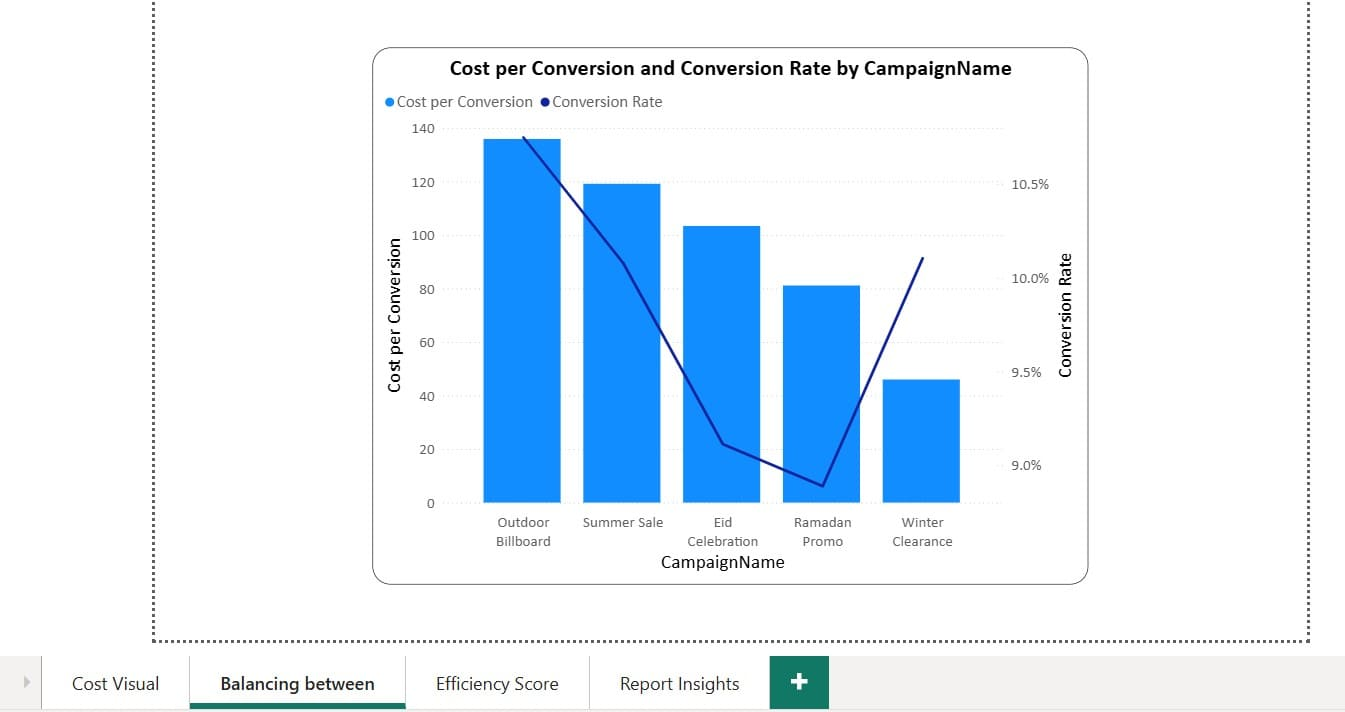

The dashboard page shown, as its layout file describes it:
{"tool":"powerbi","page":{"name":" Balancing between","canvas":[1280,720],"ordinal":1},"visuals":[{"type":"lineStackedColumnComboChart","fields":{"Category":["Campaigns.CampaignName"],"Y2":["Interactions.Conversion Rate"],"Y":["Interactions.Cost per Conversion"]},"box":[241.7,61.7,795,596.7],"z":3}]}

Visuals, with their boxes on the page's 1280x720 design canvas (x1, y1, x2, y2). These are canvas units, not pixel positions in the 1345x712 screenshot, which may show the page scaled, cropped or inside an application window:
lineStackedColumnComboChart - Campaigns.CampaignName x Interactions.Conversion Rate: (left=242, top=62, right=1037, bottom=658)
